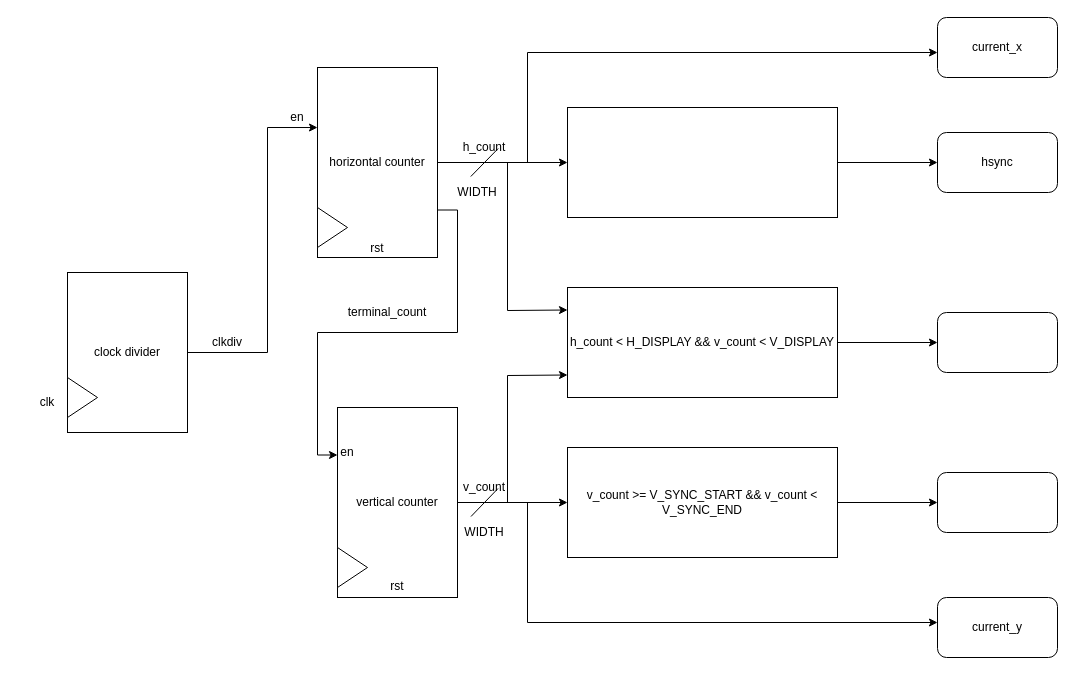
This 1075x675 diagram has some shape labels left out. The centre of each missing label's shape, as x and y in pixels:
display_on: the point at 997,342
h_count >= H_SYNC_START && h_count < H_SYNC_END: the point at 702,162
vsync: the point at 997,502
